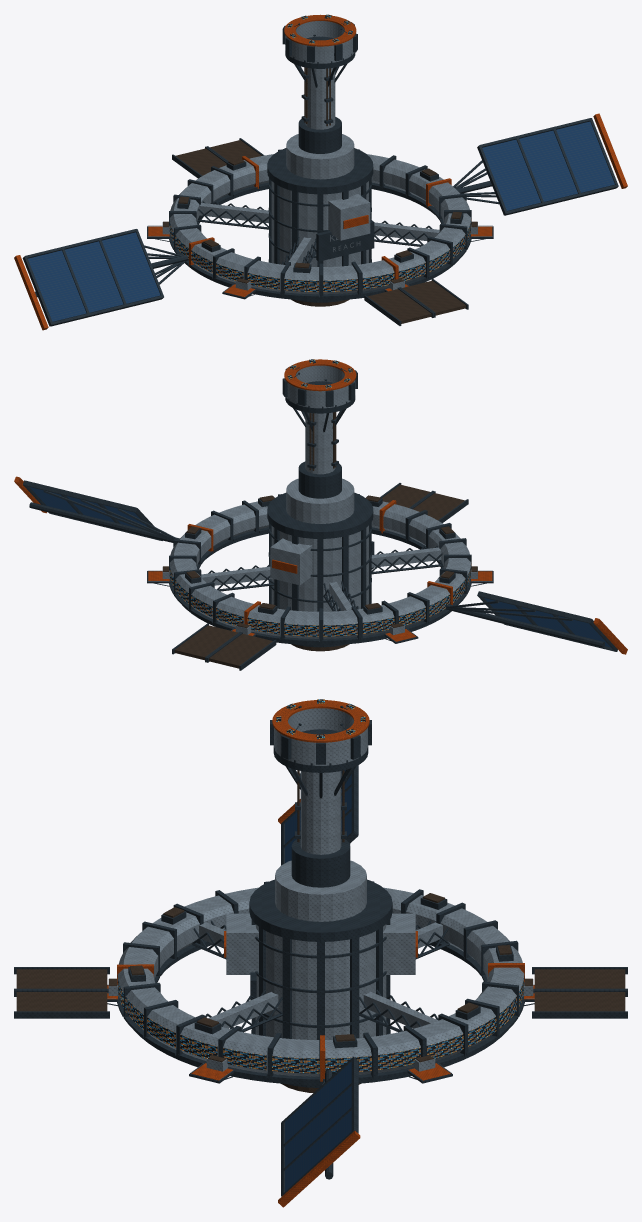
File: station_kestrel.glb
3 renders of one model, top to bottom at view 1: azimuth 30°, elevation 25°; view 2: azimuth 150°, elevation 25°; view 3: azimuth 270°, elevation 25°, orthographic. The views are drawn at different scales.
Parts seen in each view (by area): view 1: Structure, Hull, Solar, Thermal, Safety, Windows; view 2: Structure, Hull, Thermal, Windows, Safety, Solar; view 3: Hull, Structure, Thermal, Windows, Solar, Safety.
Part boxes in pixels (x1=…): Structure: x1=22, y1=17, x2=618, y2=326; Hull: x1=148, y1=21, x2=492, y2=294; Solar: x1=28, y1=121, x2=614, y2=321; Thermal: x1=163, y1=67, x2=477, y2=323; Safety: x1=14, y1=14, x2=627, y2=330; Windows: x1=169, y1=14, x2=471, y2=291; Structure: x1=23, y1=361, x2=617, y2=670; Hull: x1=148, y1=365, x2=492, y2=641; Thermal: x1=163, y1=412, x2=477, y2=668; Windows: x1=169, y1=359, x2=471, y2=636; Safety: x1=14, y1=359, x2=627, y2=654; Solar: x1=29, y1=487, x2=610, y2=647; Hull: x1=107, y1=708, x2=534, y2=1079; Structure: x1=14, y1=705, x2=627, y2=1196; Thermal: x1=16, y1=770, x2=625, y2=1092; Windows: x1=117, y1=699, x2=524, y2=1073; Solar: x1=285, y1=770, x2=351, y2=1191; Safety: x1=107, y1=700, x2=534, y2=1207.
Size of the model in its own units: 14.2 by 6.19 by 9.6.
Materials: 6 (6 with a texture image).
